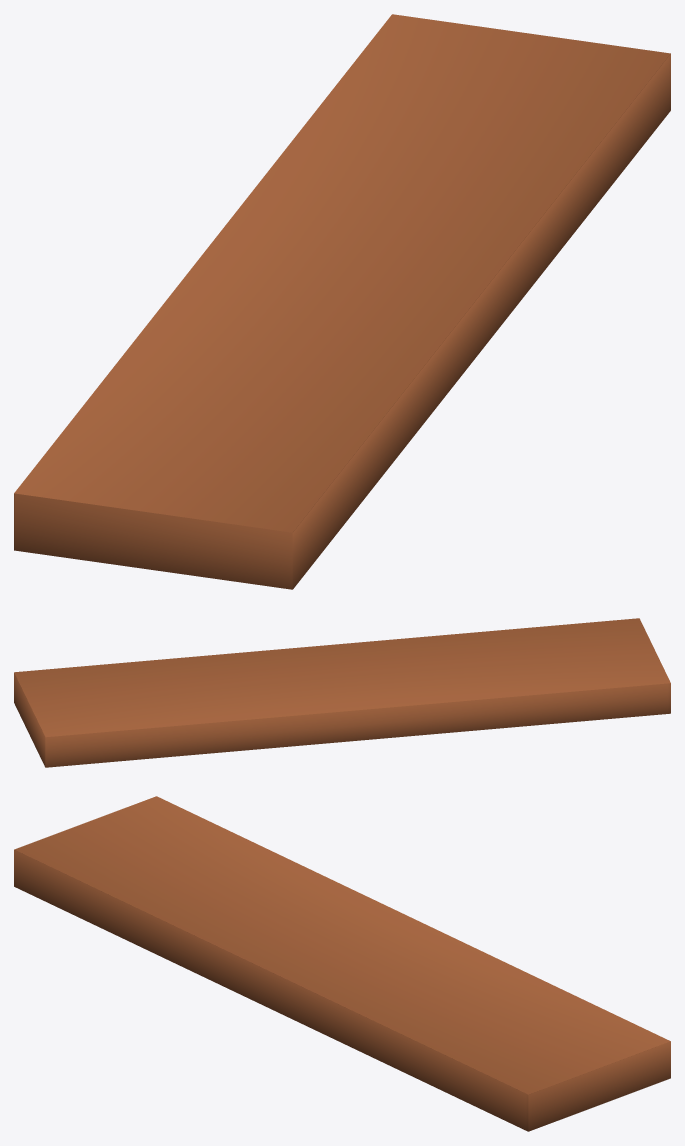
File: plank.glb
3 renders of one model, top to bottom at view 1: azimuth 30°, elevation 25°; view 2: azimuth 150°, elevation 25°; view 3: azimuth 270°, elevation 25°, orthographic. The views are drawn at different scales.
Visible parts, largest first — view 1: planks.020; view 2: planks.020; view 3: planks.020.
Boxes of the visible parts, x1,y1,x2,y2 form: planks.020: (14,14,670,589); planks.020: (14,618,670,767); planks.020: (14,796,670,1131).
Bounding box in the file's own units: 0.4964 × 0.0287 × 0.4615.
1 material, 1 textured.
